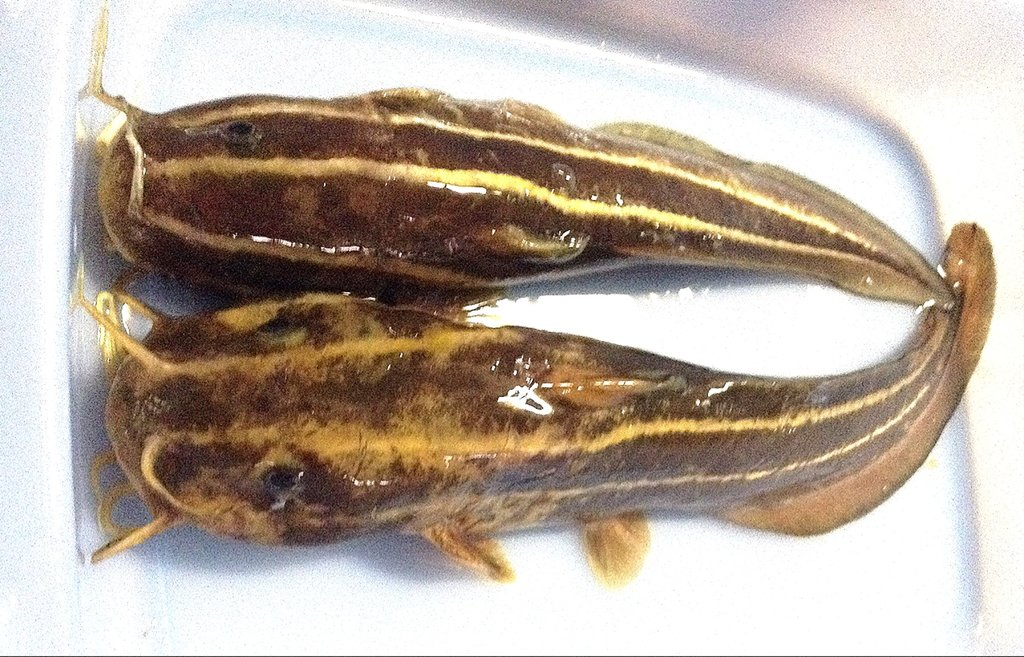gonzui: (97, 270, 1023, 564), (78, 37, 972, 297)
